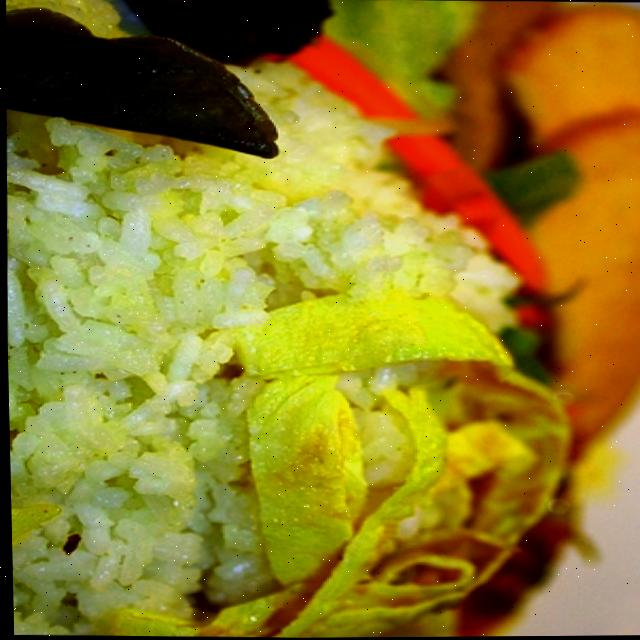米饭主食: (0, 13, 640, 631)
